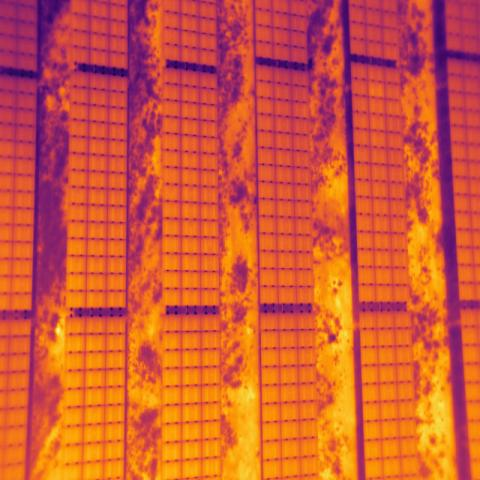fault: (369, 81, 385, 99)
